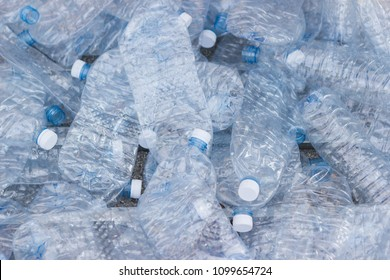plastic_bottle: (171, 49, 336, 248), (100, 6, 247, 225), (110, 88, 255, 280), (2, 194, 390, 265), (267, 28, 390, 243), (187, 9, 390, 117), (19, 31, 119, 220), (14, 4, 140, 126), (6, 31, 20, 32)
